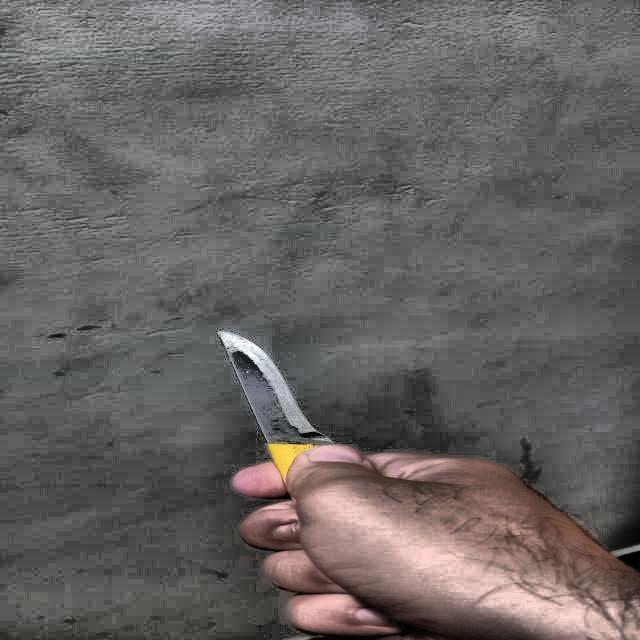knife: (218, 332, 334, 484)
